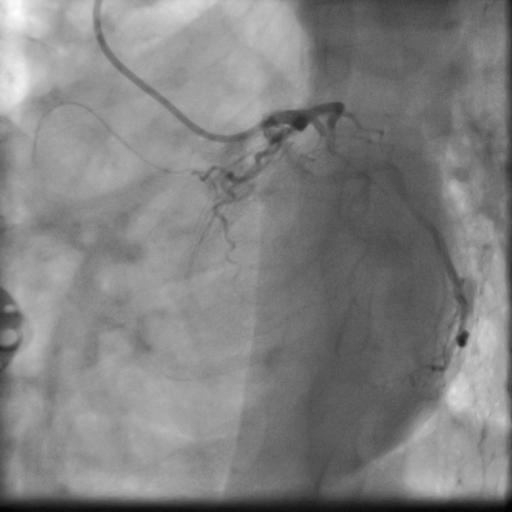Stenosis: (396, 189, 419, 218)
